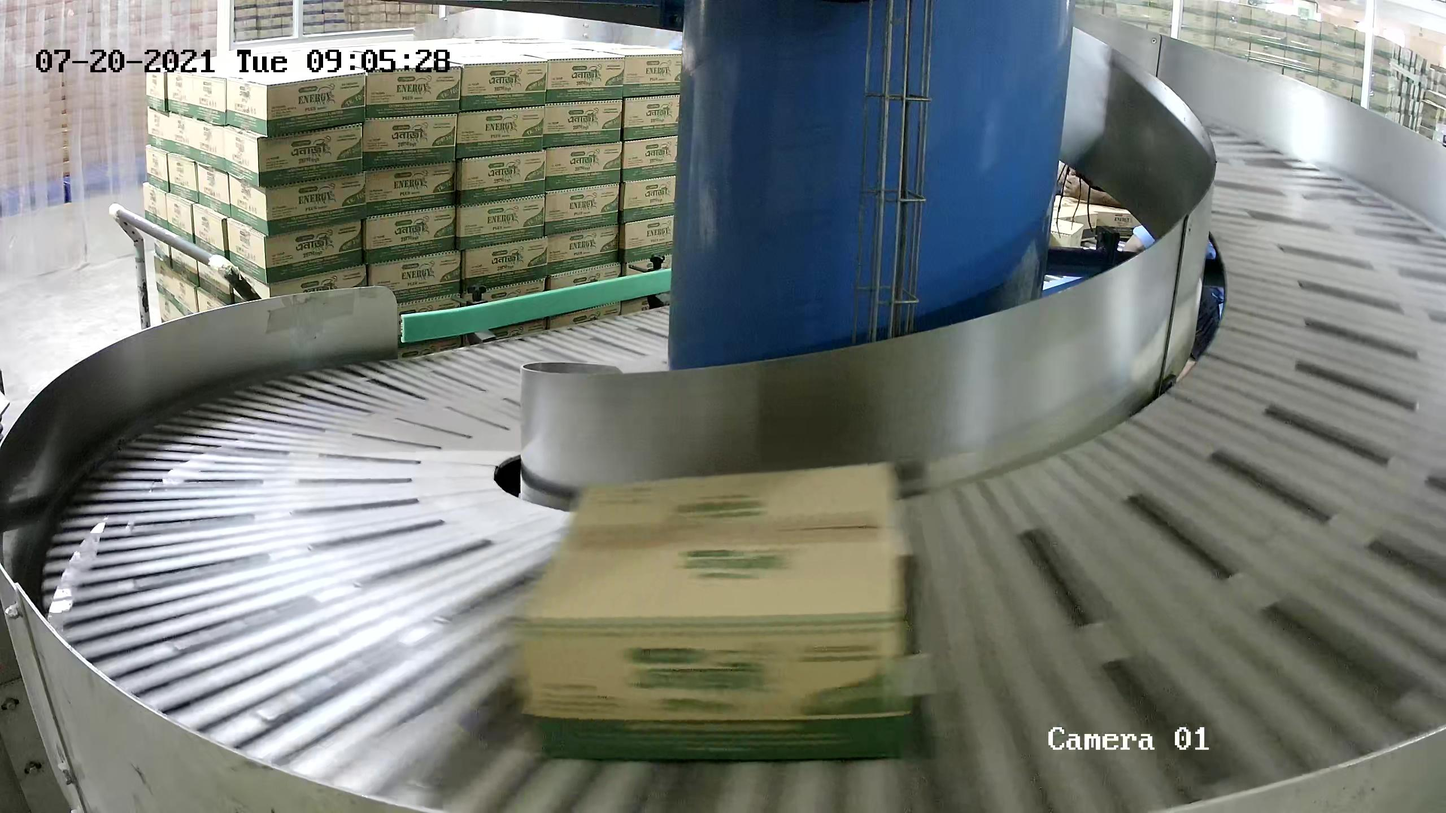Box: (511, 453, 931, 765)
